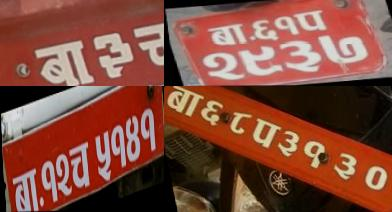0: (359, 164, 388, 192)
1: (138, 105, 158, 163), (108, 121, 128, 178), (38, 155, 58, 209), (300, 139, 328, 170), (271, 14, 300, 40)
2: (195, 50, 244, 83), (54, 148, 73, 204)
3: (88, 27, 139, 85), (272, 39, 324, 76), (328, 150, 359, 182), (272, 128, 301, 156)
4: (123, 112, 142, 169)
5: (92, 126, 113, 187)
6: (247, 18, 278, 43), (197, 98, 223, 123)
7: (314, 32, 371, 66)
8: (225, 109, 252, 134)
9: (234, 44, 283, 76)
ba: (27, 33, 95, 86), (9, 163, 40, 212), (164, 86, 204, 119), (202, 23, 249, 49)
cha: (128, 18, 164, 74), (68, 136, 92, 196)
pa: (247, 115, 280, 148), (290, 9, 330, 35)
